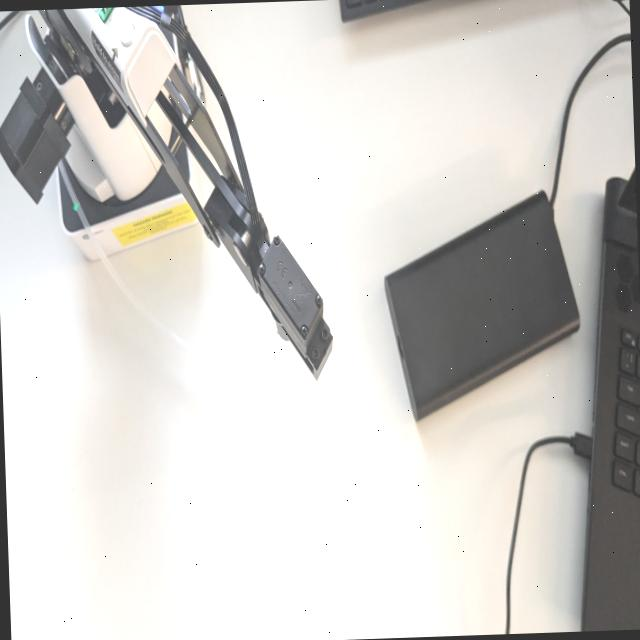Robot-end-effector-HF8z: (248, 230, 336, 388)
